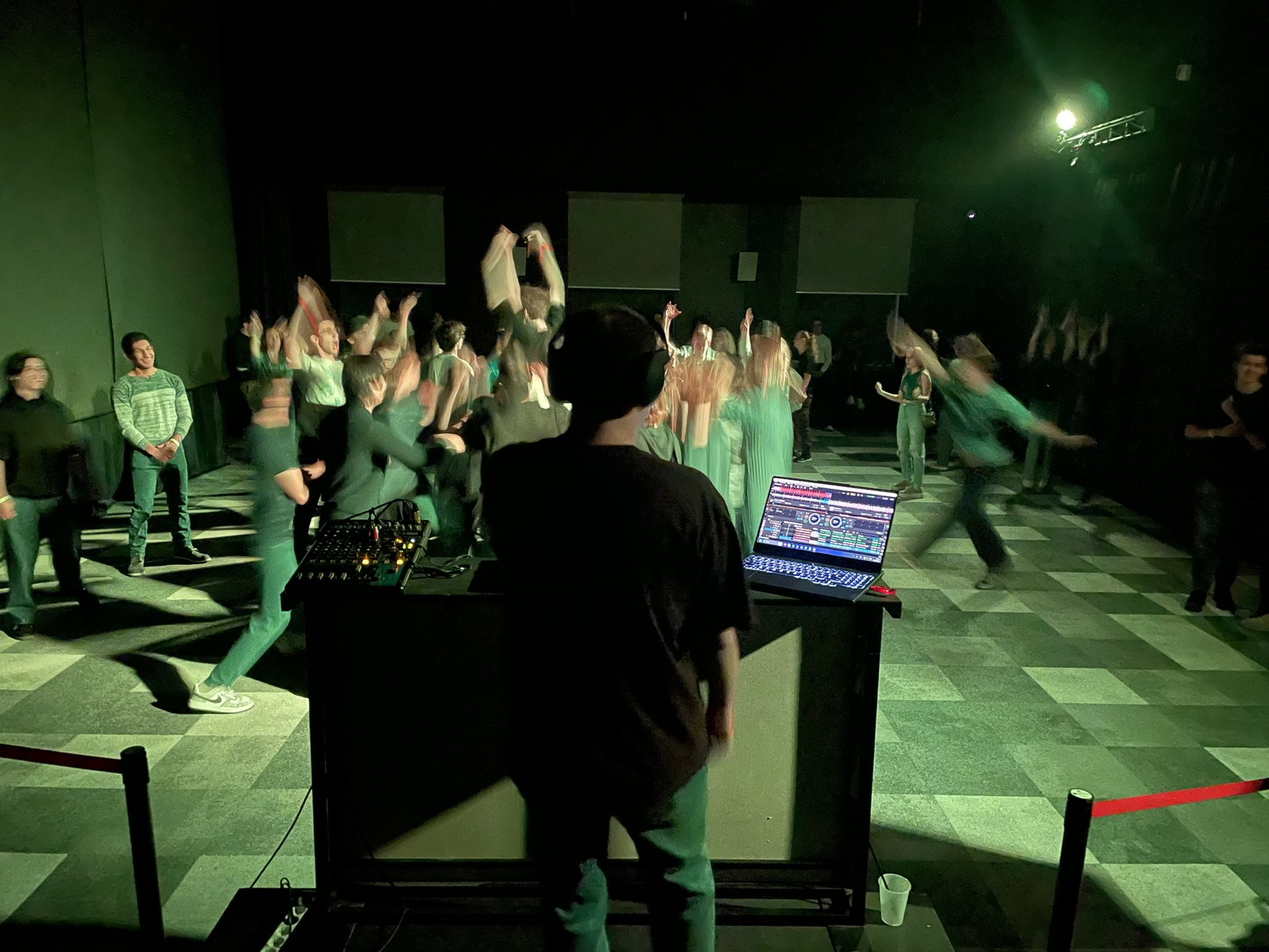laptop: (742, 475, 899, 602)
